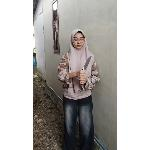Pisau: (78, 53, 94, 75)
